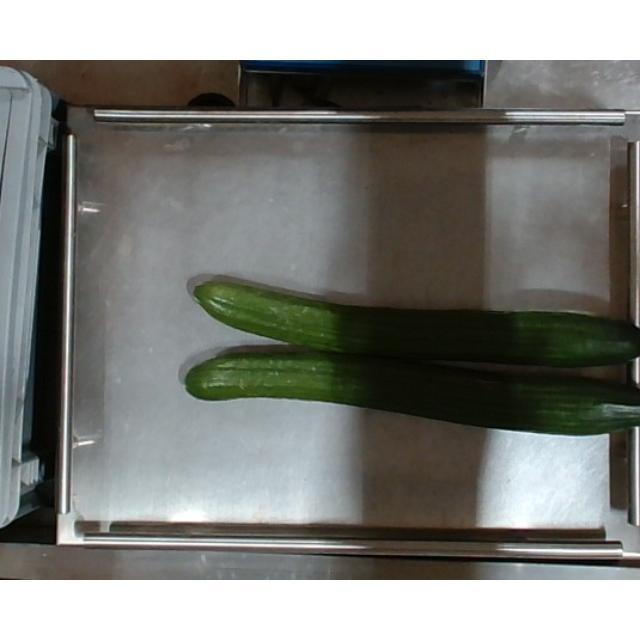cucumber: (192, 276, 640, 364), (182, 352, 640, 436)
